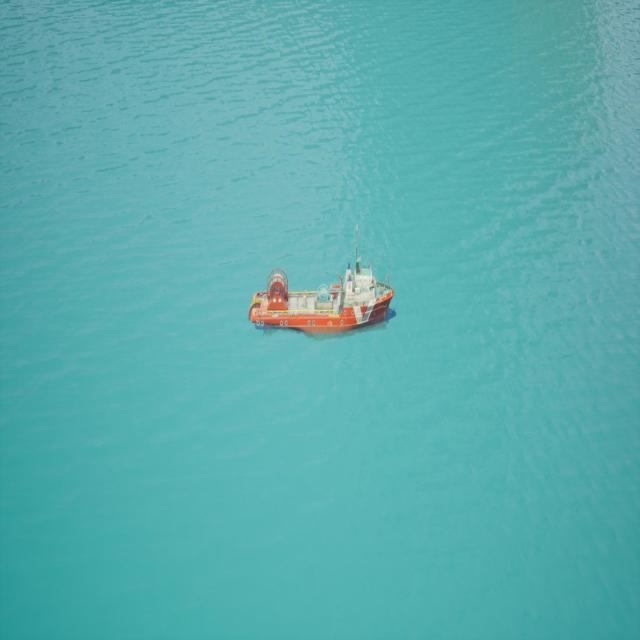tug boat: (251, 261, 396, 335)
